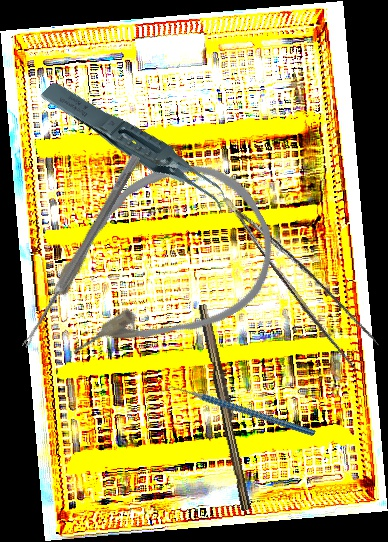Cannula: (15, 136, 298, 391)
Chopper: (157, 341, 317, 483)
Scalpel Handle: (194, 302, 258, 512)
Surgical Spoon: (20, 153, 141, 350)
Tissue Forceps: (39, 50, 234, 248), (222, 175, 385, 377)
